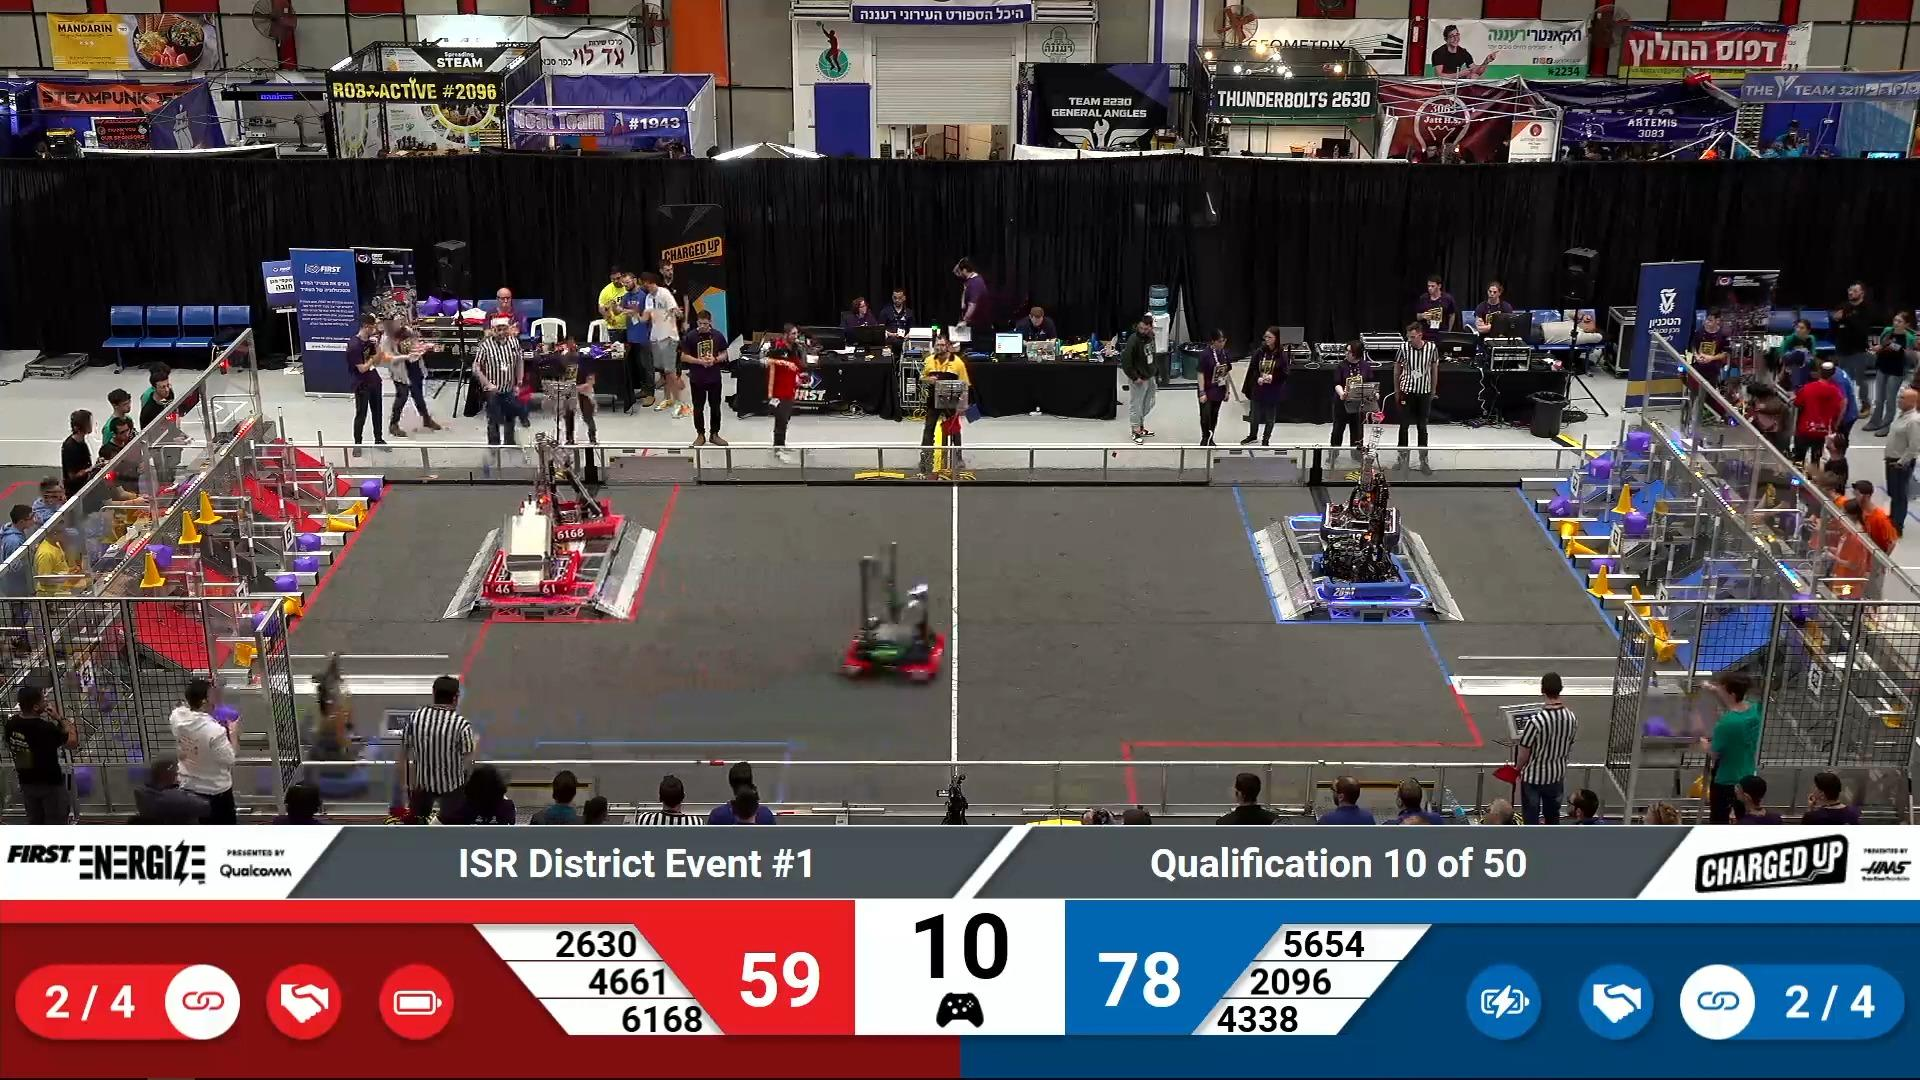robot: (832, 562, 949, 684), (280, 708, 388, 802), (516, 460, 620, 545), (1312, 463, 1406, 546), (484, 524, 582, 597), (1307, 542, 1418, 604)
